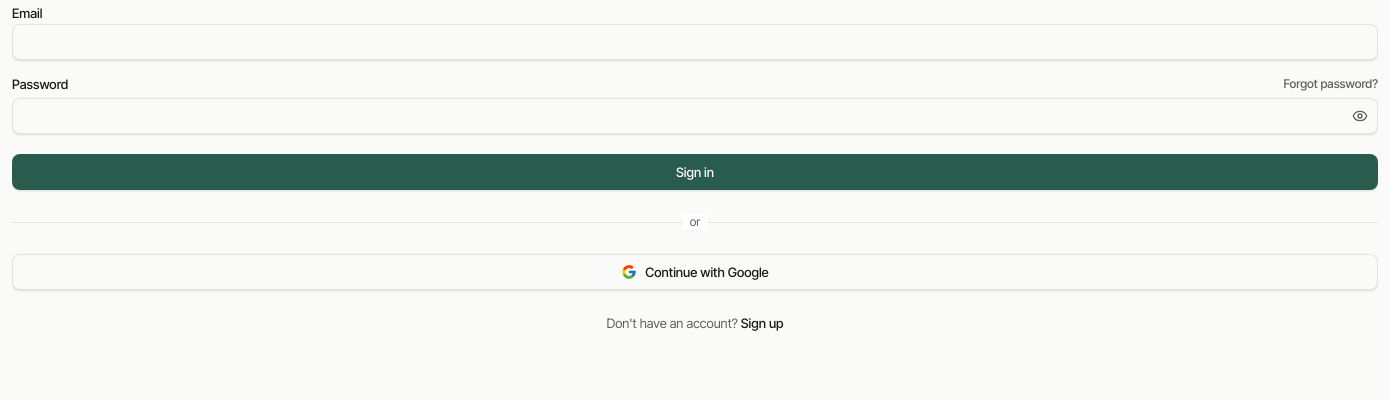
SignInForm › shows generic error when signIn throws non-Error
The width and height of the screenshot is (1390, 400).
In the field labelled "Email": (695, 42) [12, 24, 1378, 60], type "test@example.com"
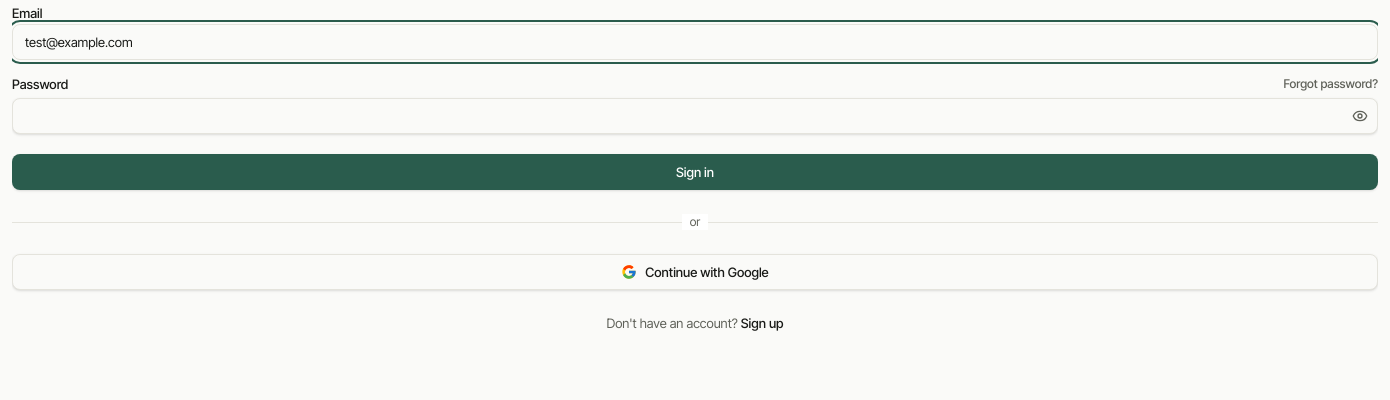
In the password field labelled "Password": (695, 116) [12, 98, 1378, 134], type "Password123"
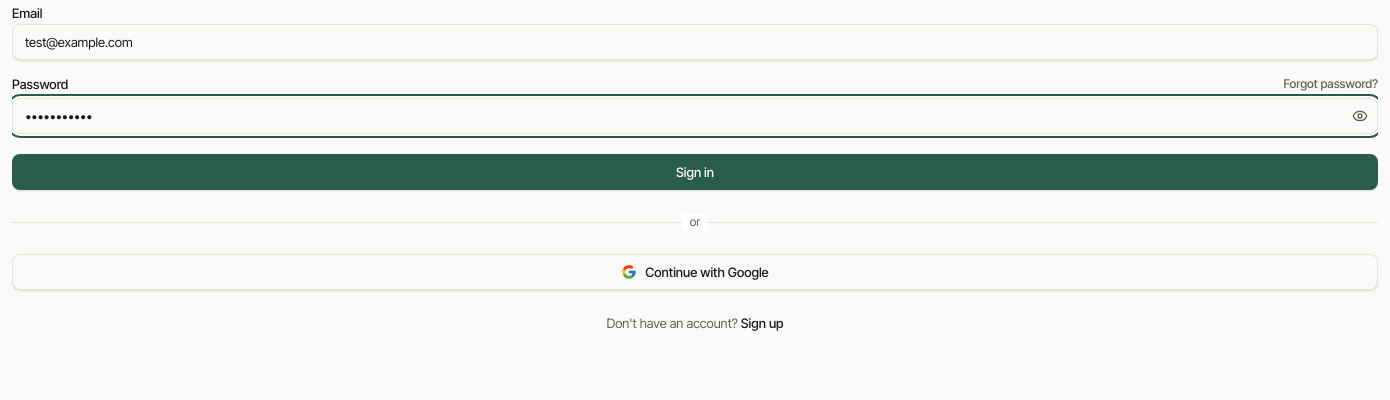
Click the button "Sign in": (695, 172) [12, 154, 1378, 190]
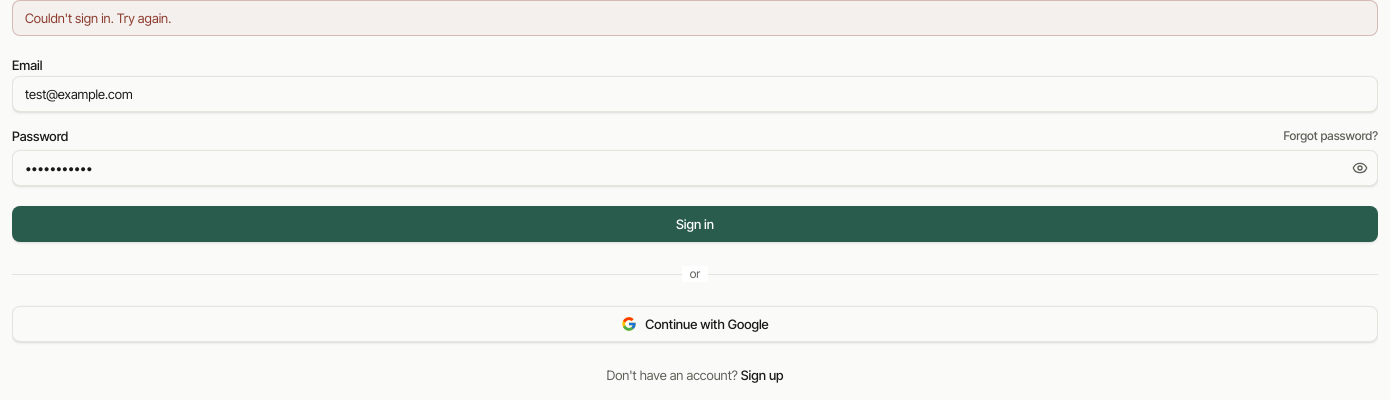
Now the message reads "Couldn't sign in. Try again.", box [25, 10, 171, 26]
